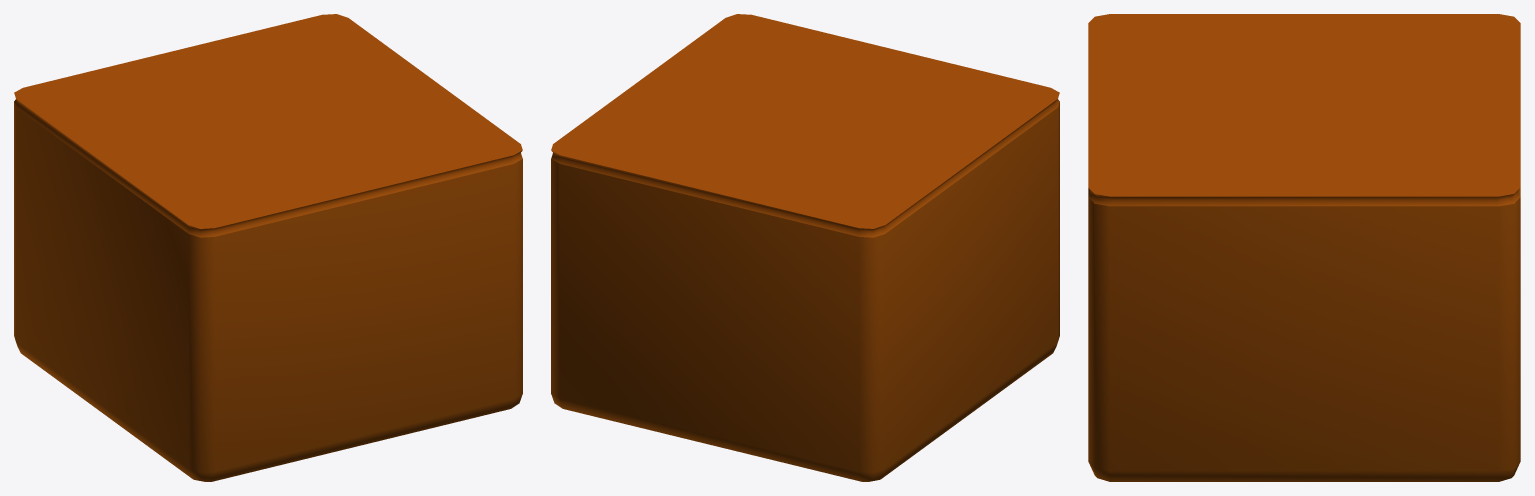
Rendered from 3D_Tile_Socket_Ground_03.fbx.
3 renders of one model, left to right at view 1: azimuth 30°, elevation 25°; view 2: azimuth 150°, elevation 25°; view 3: azimuth 270°, elevation 25°, orthographic. The views are drawn at different scales.
Visible parts, largest first — view 1: 3D_Tile_Socket_Ground_03; view 2: 3D_Tile_Socket_Ground_03; view 3: 3D_Tile_Socket_Ground_03.
Boxes of the visible parts, x1,y1,x2,y2 form: 3D_Tile_Socket_Ground_03: (14, 14, 522, 481); 3D_Tile_Socket_Ground_03: (551, 14, 1059, 481); 3D_Tile_Socket_Ground_03: (1088, 14, 1520, 481).
Bounding box in the file's own units: 200 × 150 × 200.
